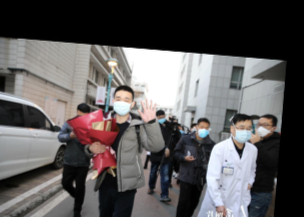with_mask: (112, 94, 132, 117), (232, 122, 252, 142), (254, 121, 271, 137), (195, 123, 210, 138), (156, 113, 166, 124)
